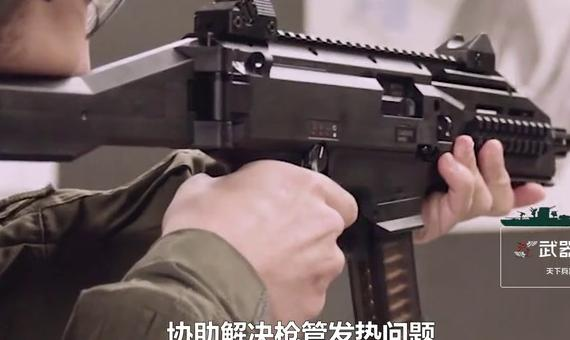gun: (1, 0, 570, 340)
